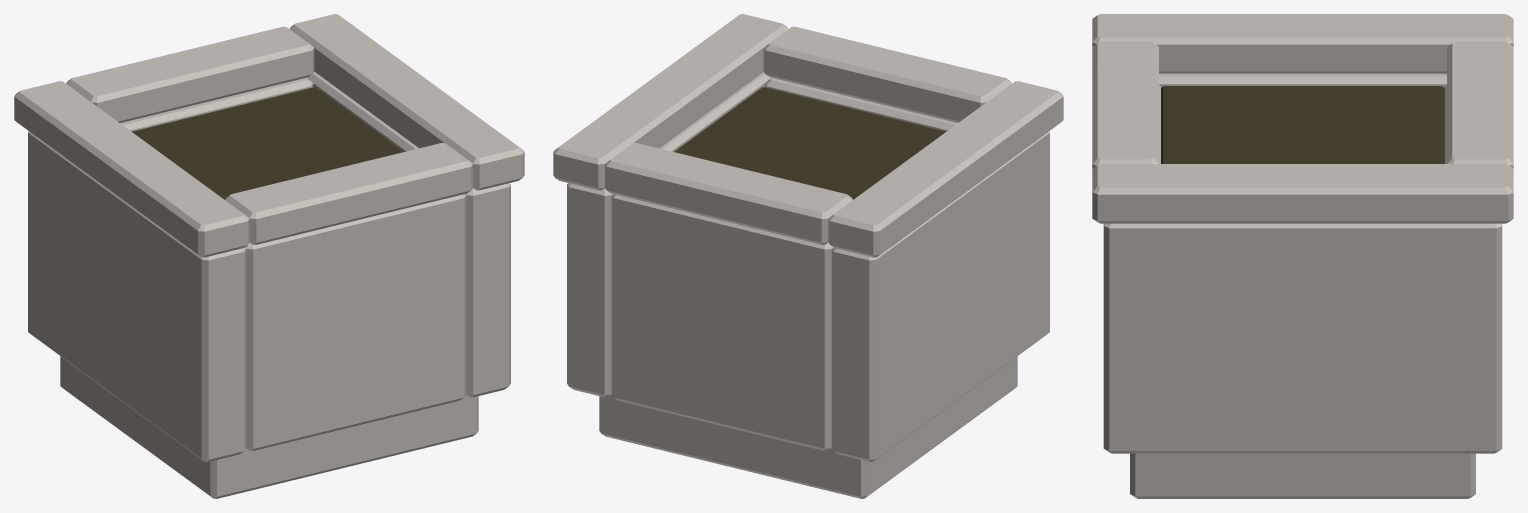
Rendered from mobile.glb.
The picture shows the model from 3 angles, left to right: view 1: azimuth 30°, elevation 25°; view 2: azimuth 150°, elevation 25°; view 3: azimuth 270°, elevation 25°; orthographic projection. The views are drawn at different scales.
Bounding box in the file's own units: 0.95 × 0.815 × 0.95.
Materials: 1 (1 with a texture image).
